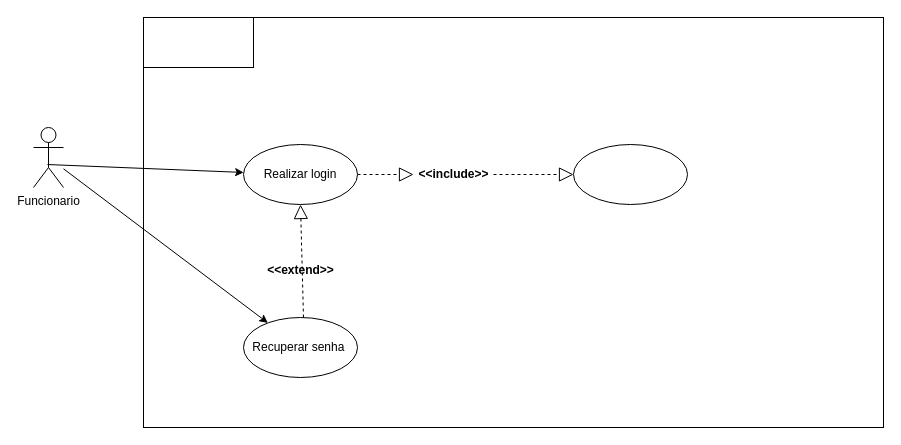
This 901x445 diagram has some shape labels left out. Here are the shapes that lost their labels. From the top down, the box of each, then its label:
(142, 16, 254, 68): VisionCare Login
(572, 144, 688, 204): Validar credenciais
